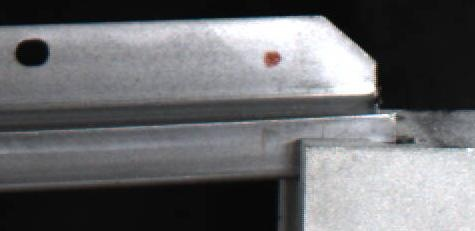cut: (243, 13, 396, 175)
holes: (13, 37, 51, 66)
